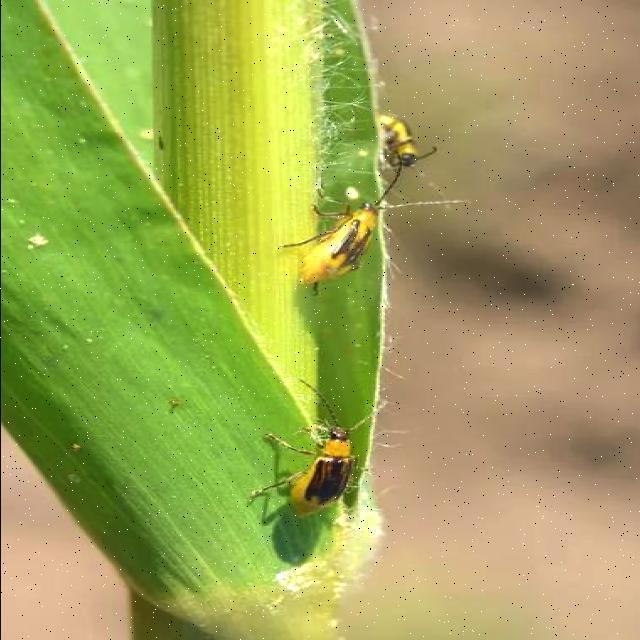trips: (275, 157, 469, 297), (248, 378, 390, 520), (374, 113, 438, 167)
